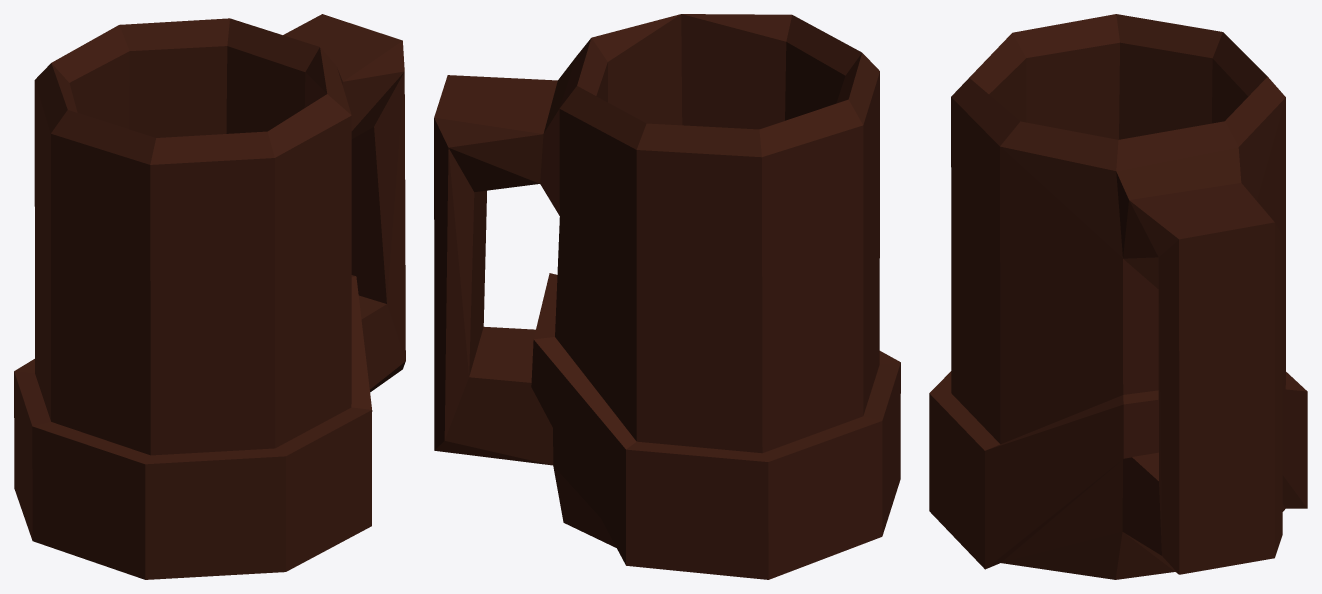
File: wooden_beer_mug.fbx
3 views of the same model, side by side, from view 1: azimuth 30°, elevation 25°; view 2: azimuth 150°, elevation 25°; view 3: azimuth 270°, elevation 25° (orthographic).
Visible parts, largest first — view 1: wooden_beer_mug; view 2: wooden_beer_mug; view 3: wooden_beer_mug.
Boxes of the visible parts, <box> form: wooden_beer_mug: <box>14,14,405,579</box>; wooden_beer_mug: <box>434,14,900,579</box>; wooden_beer_mug: <box>929,14,1307,579</box>.
Size of the model in its own units: 14.62 by 15.02 by 11.74.
